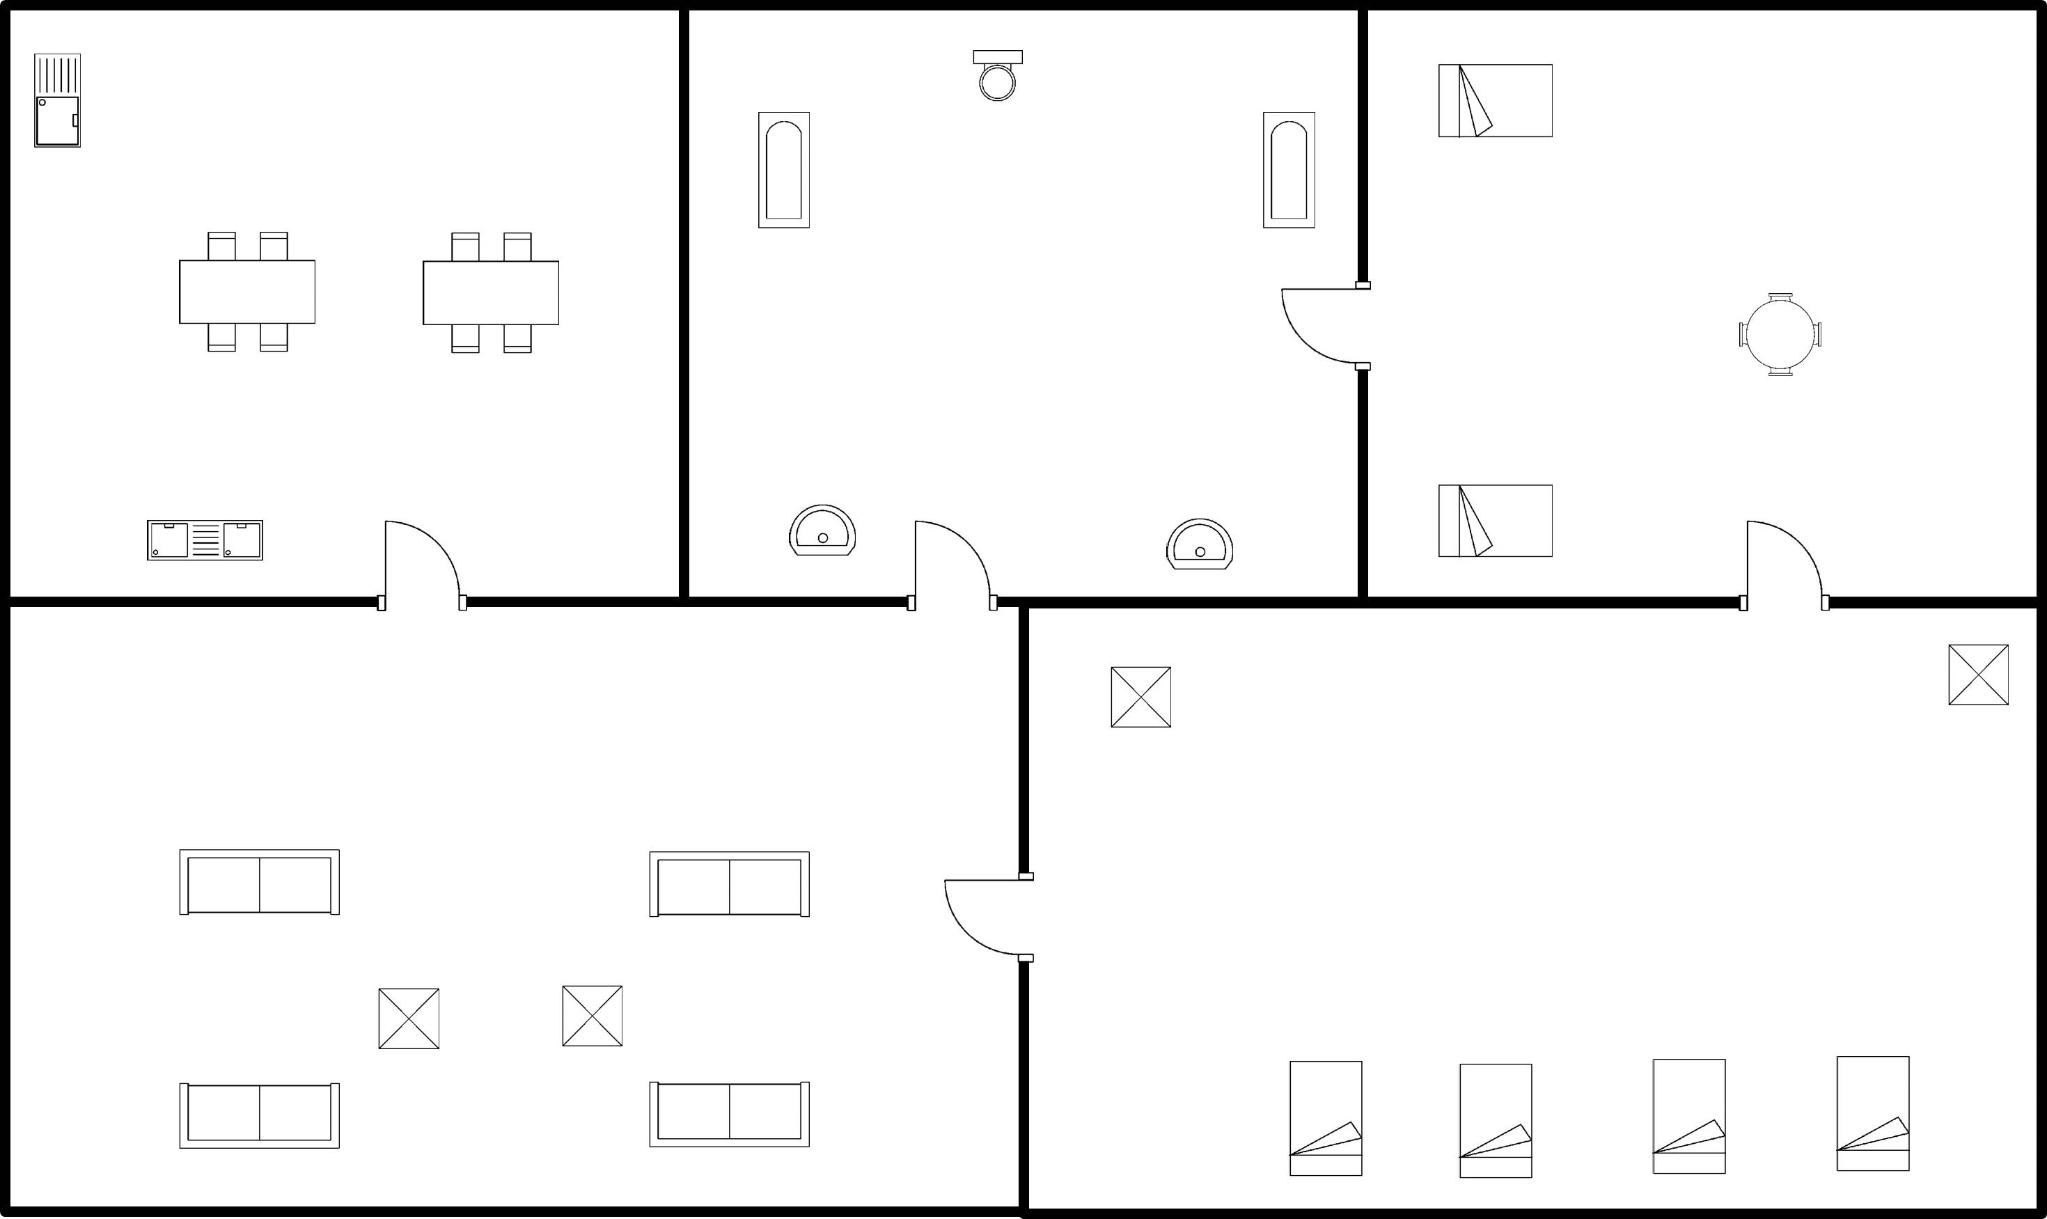sink: (135, 508, 274, 569)
